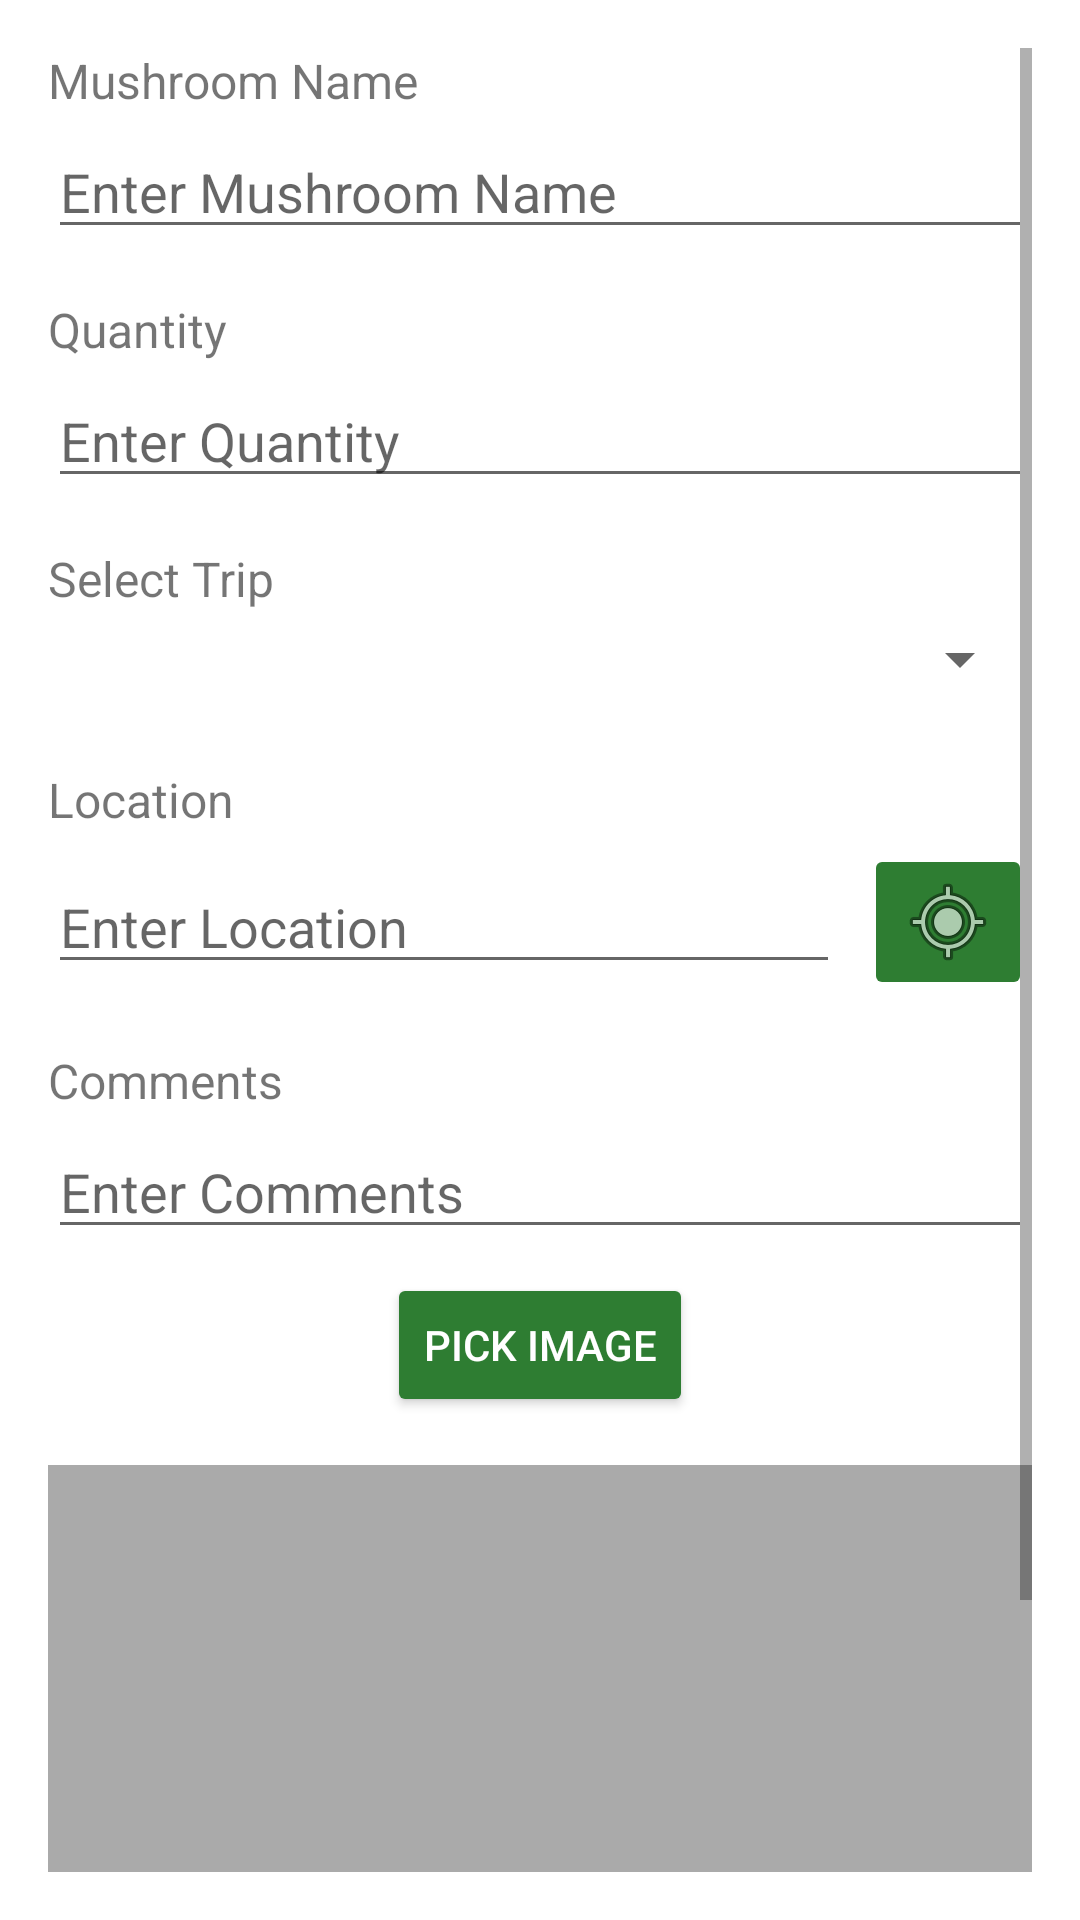

Where icons sit on this 1080px x 1920px app screen, as (x1,y1,x2,y2):
Get Current Location: (876,844,1032,1000)
